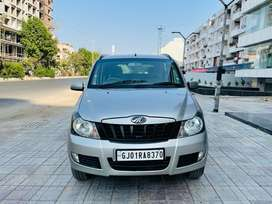GJ01RA8370: (117, 149, 164, 160)
